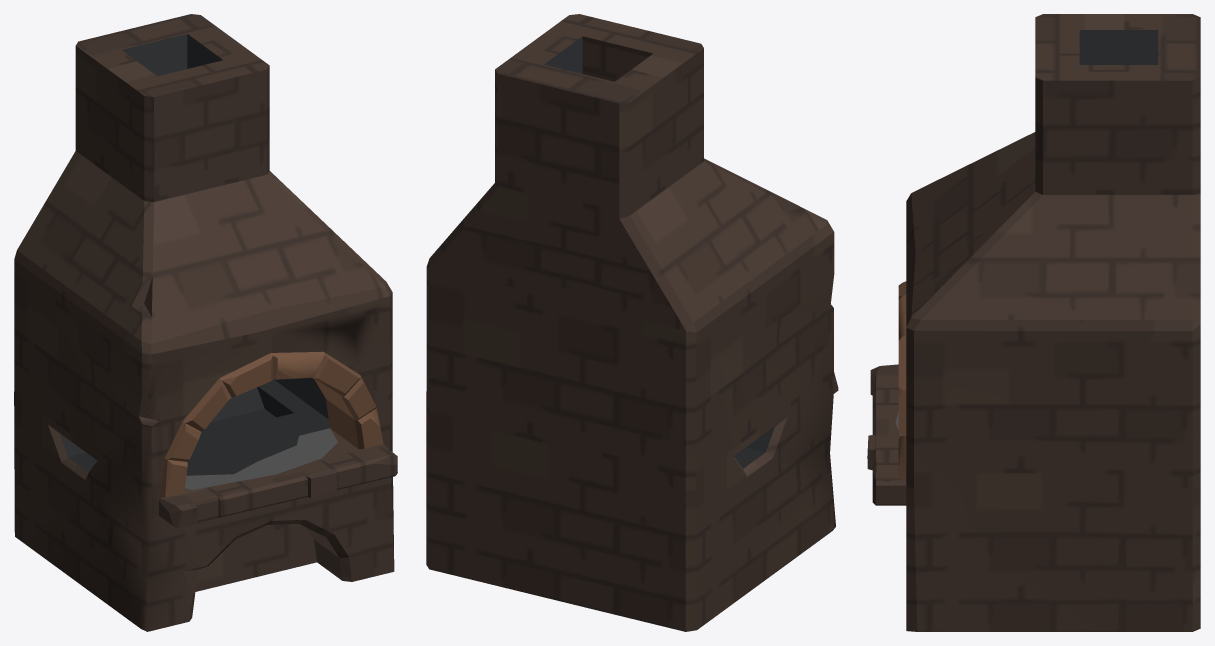
File: main_forge.fbx
3 views of the same model, side by side, from view 1: azimuth 30°, elevation 25°; view 2: azimuth 150°, elevation 25°; view 3: azimuth 270°, elevation 25° (orthographic). The views are drawn at different scales.
Visible parts, largest first — view 1: Main Forge 1; view 2: Main Forge 1; view 3: Main Forge 1.
Boxes of the visible parts, x1,y1,x2,y2 form: Main Forge 1: (14, 14, 397, 631); Main Forge 1: (426, 14, 838, 631); Main Forge 1: (867, 14, 1200, 631).
Size of the model in its own units: 160 by 290 by 169.
Materials: 1 (1 with a texture image).
